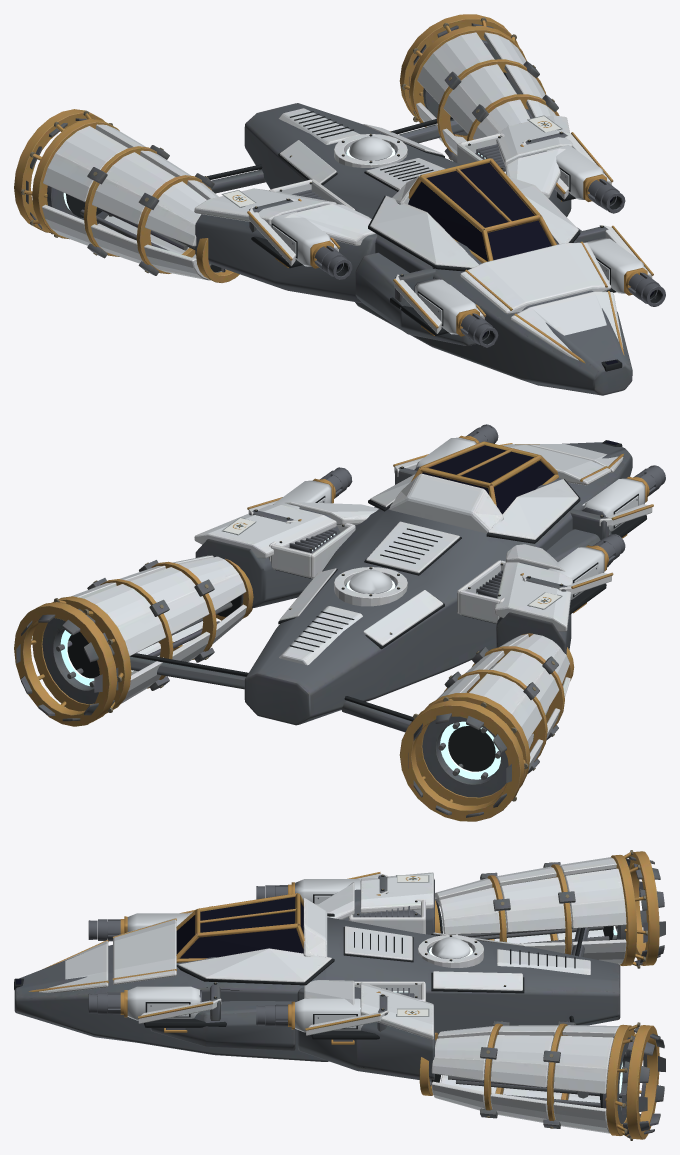
Rendered from europa-schiff2.glb.
The picture shows the model from 3 angles, top to bottom: view 1: azimuth 30°, elevation 25°; view 2: azimuth 150°, elevation 25°; view 3: azimuth 270°, elevation 25°; orthographic projection. The views are drawn at different scales.
Visible parts, largest first — view 1: Hull_europa_Armor, Hull_europa_BrushedAlloy, Hull_europa_EdgeGuards, Generator_01_Geometry, Laser_01_Geometry, Generator_03_Geometry; view 2: Hull_europa_Armor, Hull_europa_BrushedAlloy, Hull_europa_EdgeGuards, Generator_01_Geometry, Generator_03_Geometry, Laser_01_Geometry; view 3: Hull_europa_Armor, Hull_europa_BrushedAlloy, Hull_europa_EdgeGuards, Generator_01_Geometry, Generator_03_Geometry, Laser_01_Geometry.
Part boxes in pixels (x1=…): Hull_europa_Armor: x1=42, y1=32, x2=652, y2=360; Hull_europa_BrushedAlloy: x1=26, y1=23, x2=632, y2=395; Hull_europa_EdgeGuards: x1=14, y1=14, x2=653, y2=363; Generator_01_Geometry: x1=20, y1=17, x2=665, y2=371; Laser_01_Geometry: x1=337, y1=163, x2=654, y2=364; Generator_03_Geometry: x1=269, y1=136, x2=644, y2=334; Hull_europa_Armor: x1=70, y1=444, x2=652, y2=770; Hull_europa_BrushedAlloy: x1=16, y1=442, x2=632, y2=817; Hull_europa_EdgeGuards: x1=14, y1=441, x2=653, y2=821; Generator_01_Geometry: x1=31, y1=424, x2=665, y2=801; Generator_03_Geometry: x1=273, y1=437, x2=645, y2=599; Laser_01_Geometry: x1=422, y1=440, x2=618, y2=513; Hull_europa_Armor: x1=39, y1=857, x2=626, y2=1133; Hull_europa_BrushedAlloy: x1=14, y1=856, x2=665, y2=1137; Hull_europa_EdgeGuards: x1=29, y1=851, x2=659, y2=1139; Generator_01_Geometry: x1=14, y1=850, x2=648, y2=1140; Generator_03_Geometry: x1=127, y1=879, x2=470, y2=1032; Laser_01_Geometry: x1=16, y1=897, x2=303, y2=984.
Bounding box in the file's own units: 13.19 × 3.85 × 16.36.
Materials: 9 (8 with a texture image).
